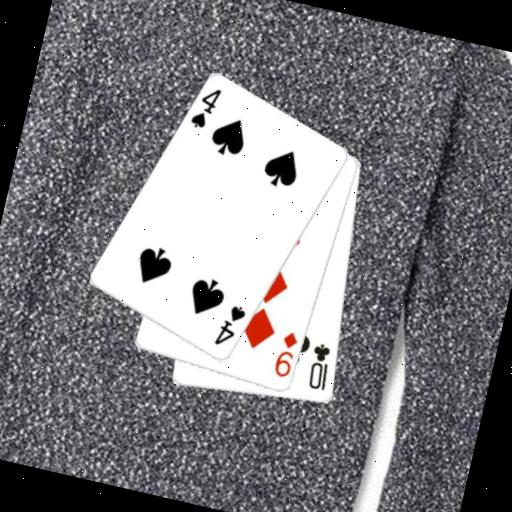10C: (303, 339, 338, 394)
4S: (211, 299, 249, 352), (186, 81, 224, 134)
9D: (270, 327, 301, 381)
